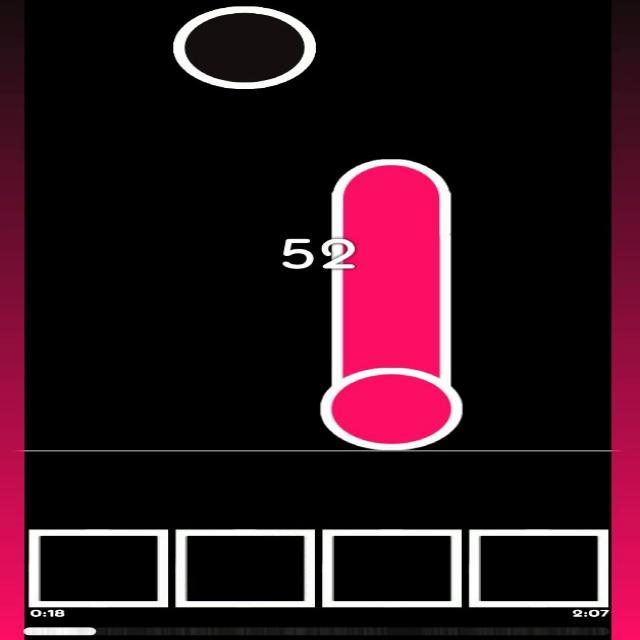end_hold: (332, 151, 453, 207)
note: (172, 4, 315, 89)
start_hold: (320, 356, 465, 450)
